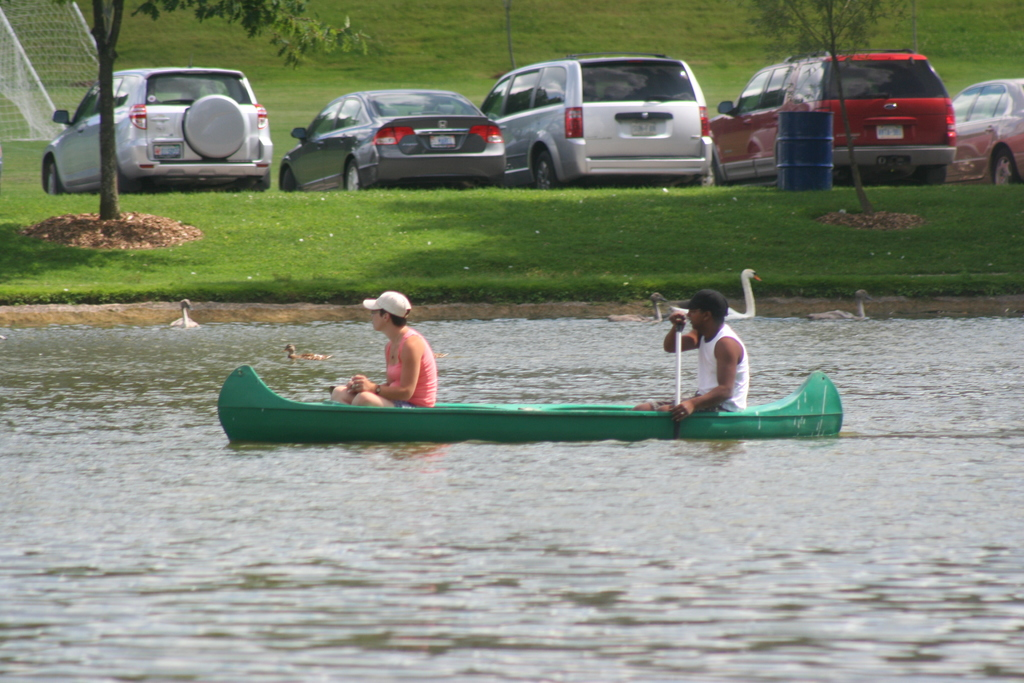Car: (707, 55, 956, 185), (480, 58, 716, 192), (38, 67, 274, 185), (276, 87, 508, 189), (955, 80, 1023, 190)
